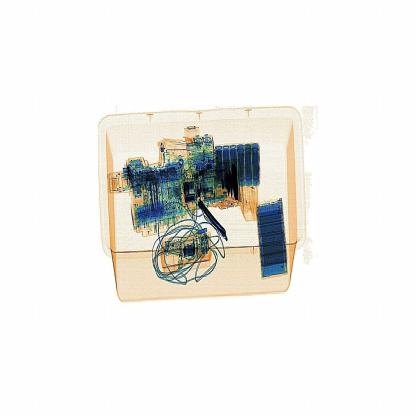knife: (193, 196, 233, 240)
